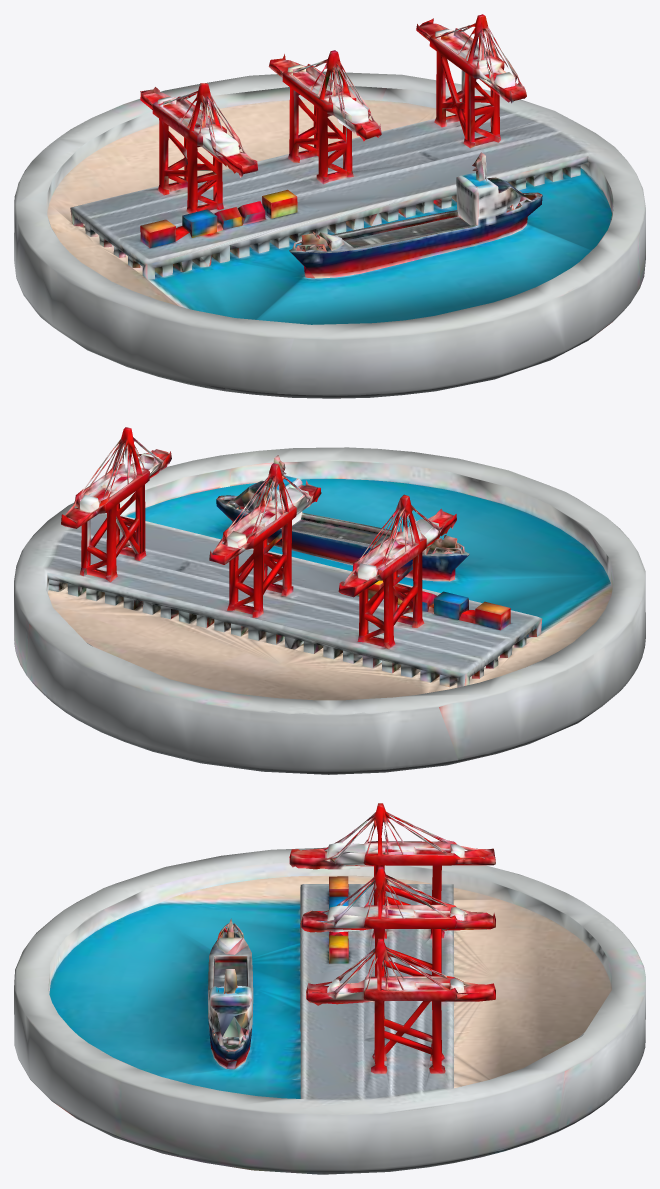
The model's file is port.glb.
3 renders of one model, top to bottom at view 1: azimuth 30°, elevation 25°; view 2: azimuth 150°, elevation 25°; view 3: azimuth 270°, elevation 25°, orthographic.
Visible parts, largest first — view 1: mesh; view 2: mesh; view 3: mesh.
Boxes of the visible parts, x1,y1,x2,y2 form: mesh: [14, 14, 645, 398]; mesh: [14, 427, 645, 774]; mesh: [14, 803, 645, 1174].
Bounding box in the file's own units: 0.9998 × 0.332 × 1.
1 material, 1 textured.
